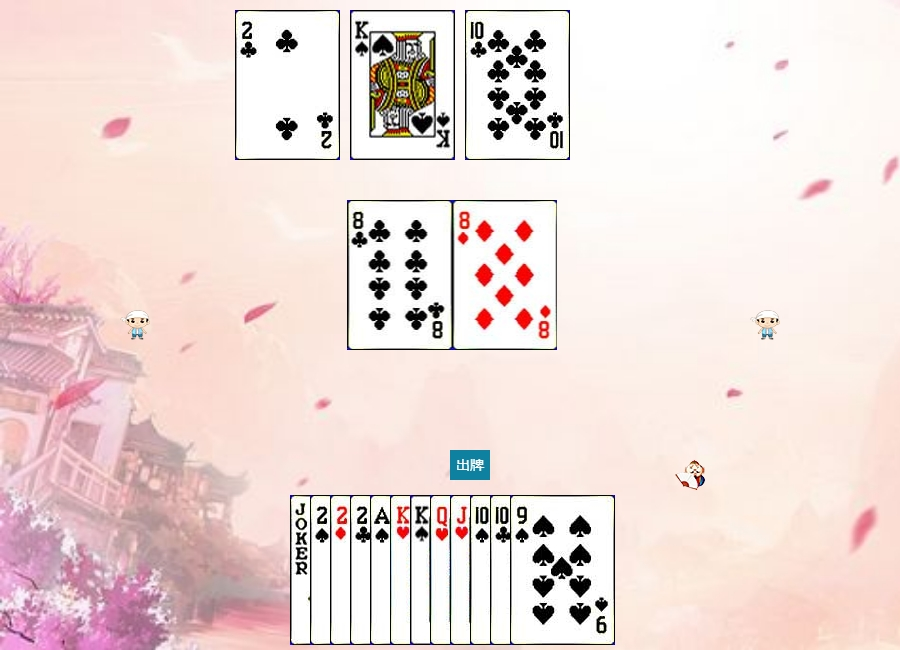10~2: (465, 10, 570, 160), (490, 495, 595, 645)
10~4: (470, 495, 575, 645)
11~3: (450, 495, 555, 645)
12~3: (430, 495, 535, 645)
13~3: (390, 495, 495, 645)
13~4: (350, 10, 455, 160), (410, 495, 515, 645)
14~4: (370, 495, 475, 645)
15~1: (330, 495, 435, 645)
15~2: (235, 10, 340, 160), (350, 495, 455, 645)
15~4: (310, 495, 415, 645)
17~3: (290, 495, 395, 645)
8~1: (453, 200, 558, 350)
8~2: (348, 200, 453, 350)
9~4: (510, 495, 615, 645)
